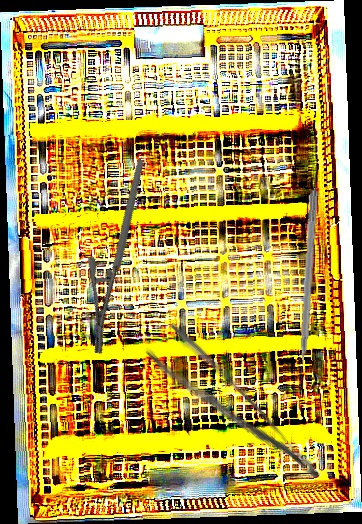Dressing Forceps: (142, 319, 326, 506)
Needle Holder: (39, 158, 201, 356)
Pusher: (294, 188, 319, 389)
